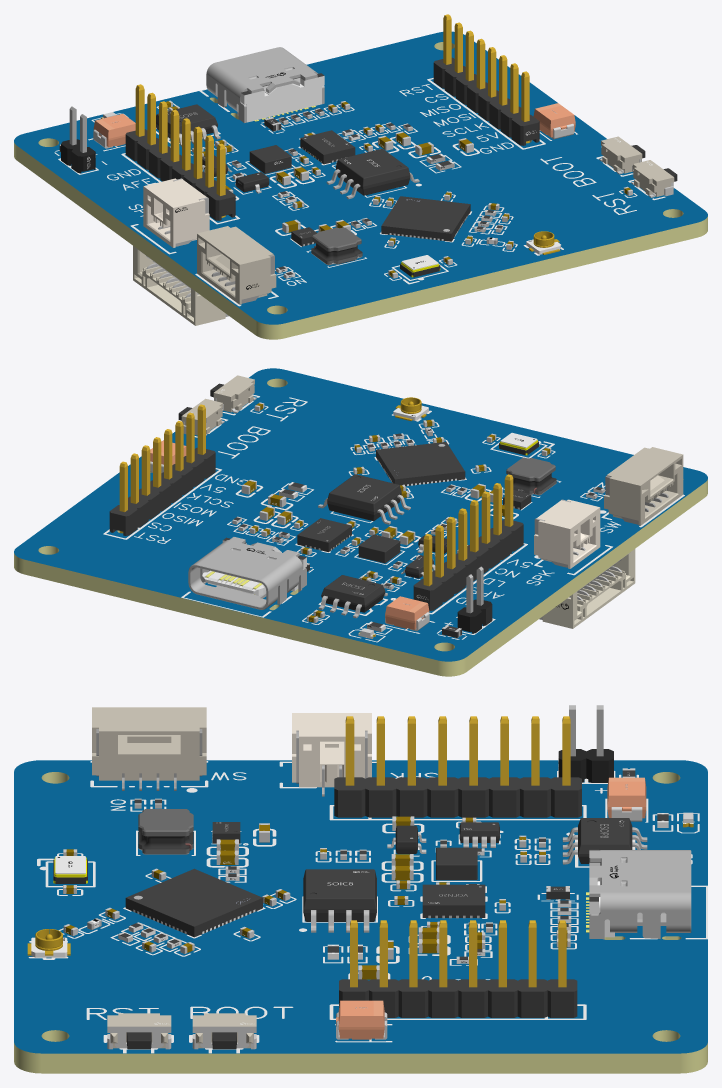
File: bottom.glb
The picture shows the model from 3 angles, top to bottom: view 1: azimuth 30°, elevation 25°; view 2: azimuth 150°, elevation 25°; view 3: azimuth 270°, elevation 25°; orthographic projection. The views are drawn at different scales.
Parts seen in each view (by area): view 1: pcb, bottom-z1, bottom-z0, bottom-z2, bottom-z3; view 2: pcb, bottom-z0, bottom-z1, bottom-z2, bottom-z3; view 3: pcb, bottom-z1, bottom-z0, bottom-z2, bottom-z3.
Part boxes in pixels (box(x1,y1,x2,y2)): pcb: box(14, 31, 707, 339); bottom-z1: box(58, 84, 316, 325); bottom-z0: box(54, 14, 545, 175); bottom-z2: box(275, 103, 577, 284); bottom-z3: box(444, 136, 677, 267); pcb: box(14, 368, 707, 676); bottom-z0: box(103, 404, 466, 642); bottom-z1: box(399, 447, 684, 634); bottom-z2: box(150, 432, 561, 545); bottom-z3: box(178, 375, 500, 443); pcb: box(14, 760, 707, 1073); bottom-z1: box(90, 705, 615, 870); bottom-z0: box(329, 768, 707, 1019); bottom-z2: box(37, 809, 423, 1042); bottom-z3: box(27, 889, 259, 1053).
Bounding box in the file's own units: 50.47 × 13.37 × 49.98.
